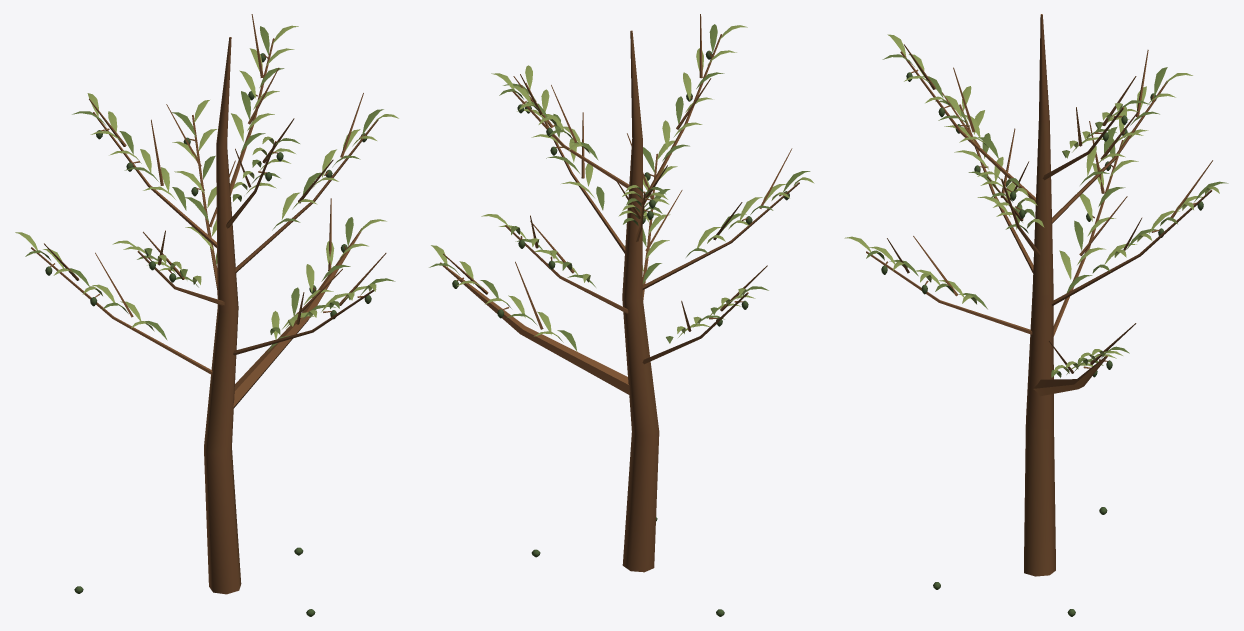
Rendered from crop_olive_tree_overripe.glb.
3 renders of one model, left to right at view 1: azimuth 30°, elevation 25°; view 2: azimuth 150°, elevation 25°; view 3: azimuth 270°, elevation 25°, orthographic. The views are drawn at different scales.
Parts seen in each view (by area): view 1: olive_b_0, olive_leaf_0_1, olive_leaf_0_0, olive_fruit_0_0; view 2: olive_b_0, olive_leaf_0_1, olive_leaf_0_0, olive_fruit_0_0; view 3: olive_b_0, olive_leaf_0_1, olive_leaf_0_0, olive_fruit_0_0.
Boxes of the visible parts, <box> form: olive_b_0: <box>31,14,386,594</box>; olive_leaf_0_1: <box>15,25,398,339</box>; olive_leaf_0_0: <box>25,26,395,351</box>; olive_fruit_0_0: <box>45,53,371,616</box>; olive_b_0: <box>440,14,799,572</box>; olive_leaf_0_1: <box>431,25,814,342</box>; olive_leaf_0_0: <box>429,24,810,351</box>; olive_fruit_0_0: <box>452,50,789,616</box>; olive_b_0: <box>866,14,1212,576</box>; olive_leaf_0_1: <box>844,34,1219,374</box>; olive_leaf_0_0: <box>866,54,1228,377</box>; olive_fruit_0_0: <box>881,72,1203,616</box>.
Size of the model in its own units: 1.71 by 2.52 by 1.58.
